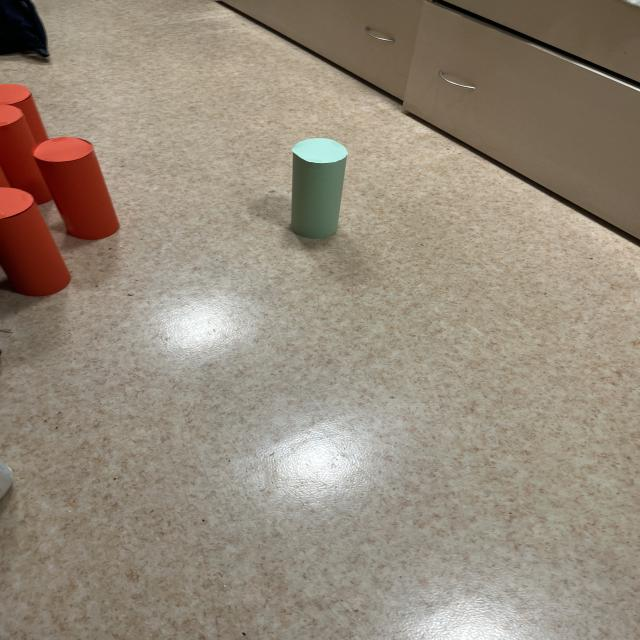meta: (291, 138, 348, 239)
